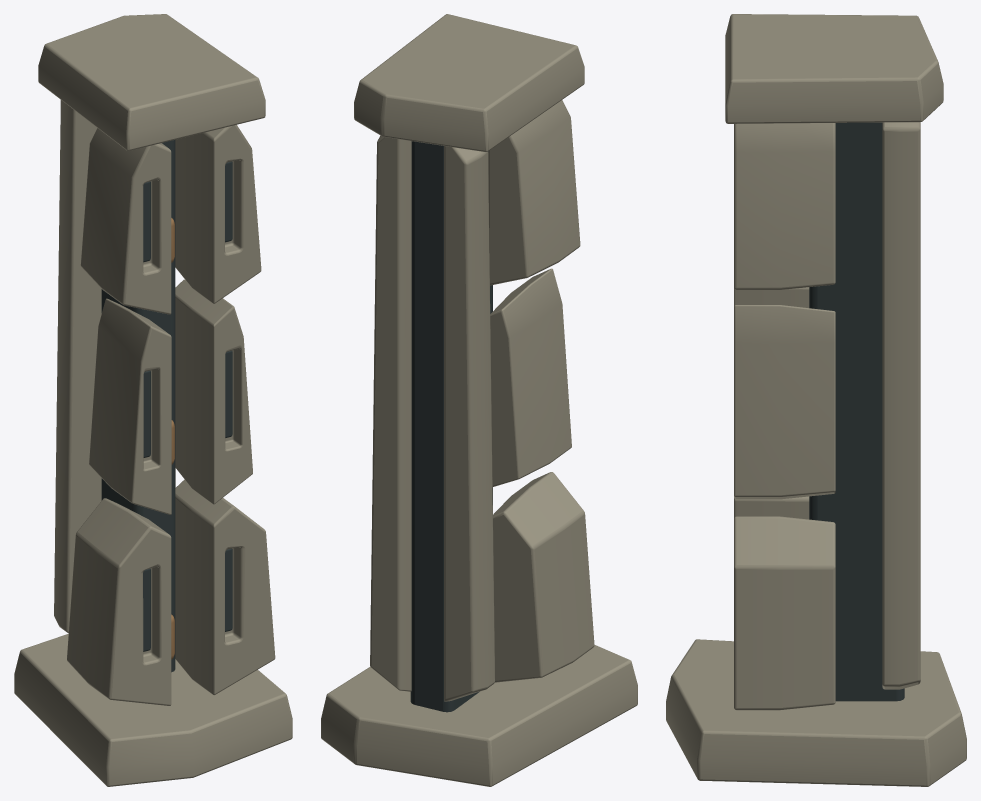
The model's file is threshold_jamb_lod1.glb.
The picture shows the model from 3 angles, left to right: view 1: azimuth 30°, elevation 25°; view 2: azimuth 150°, elevation 25°; view 3: azimuth 270°, elevation 25°; orthographic projection. The views are drawn at different scales.
Visible parts, largest first — view 1: LOD1_ancient, LOD1_substrate, LOD1_vein; view 2: LOD1_ancient, LOD1_substrate; view 3: LOD1_ancient, LOD1_substrate.
Part boxes in pixels (box(x1,y1,x2,y2)): LOD1_ancient: box(14, 14, 292, 786); LOD1_substrate: box(101, 140, 232, 672); LOD1_vein: box(171, 218, 174, 659); LOD1_ancient: box(321, 14, 637, 786); LOD1_substrate: box(410, 141, 492, 712); LOD1_ancient: box(666, 14, 966, 786); LOD1_substrate: box(809, 122, 904, 701).
Size of the model in its own units: 1.16 by 3.6 by 1.42.
